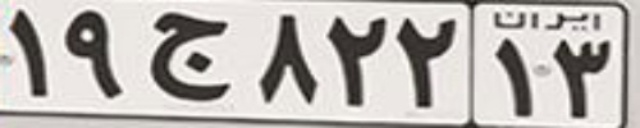1: (8, 8, 53, 96), (493, 37, 536, 117)
2: (326, 15, 389, 106), (396, 16, 456, 111)
3: (551, 37, 611, 119)
8: (257, 13, 318, 104)
9: (60, 7, 123, 98)
jim: (148, 11, 230, 101)
